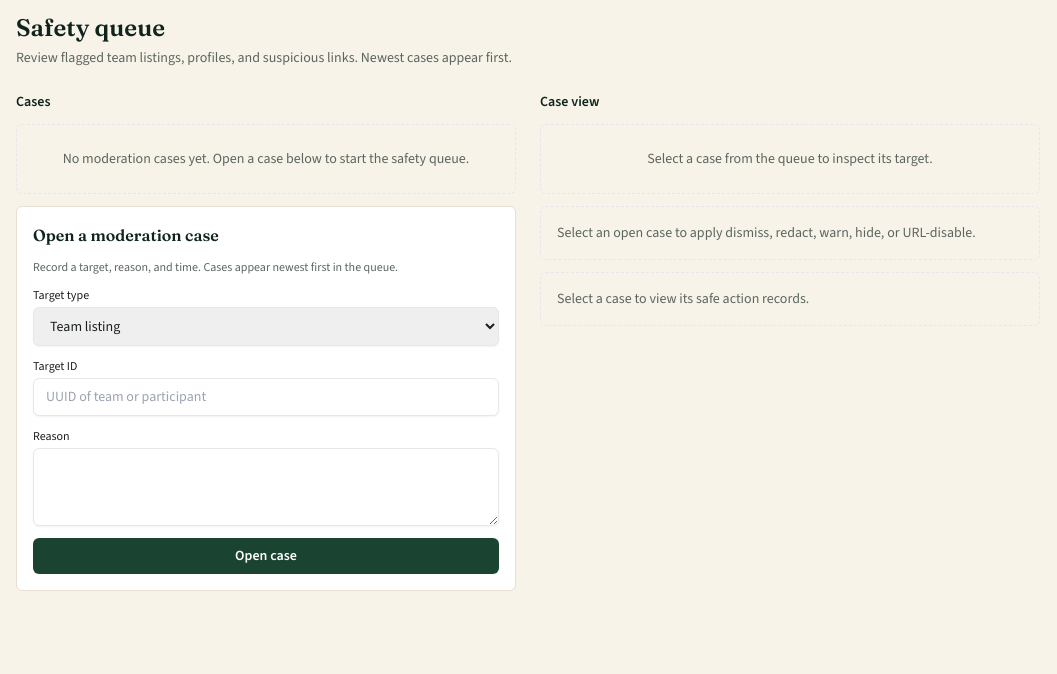
Scenario: ModerationSafetyPage (US-026 / #241) › keeps form draft when create returns validation errors
This screenshot has width=1057, height=674.
Expected: the form with test id "open-moderation-case-form" is shown, x1=16 y1=206 x2=516 y2=591
Type "cccccccc-cccc-4ccc-8ccc-cccccccccccc" into the field with test id "moderation-target-id" at [266, 397], box x1=33 y1=378 x2=499 y2=416
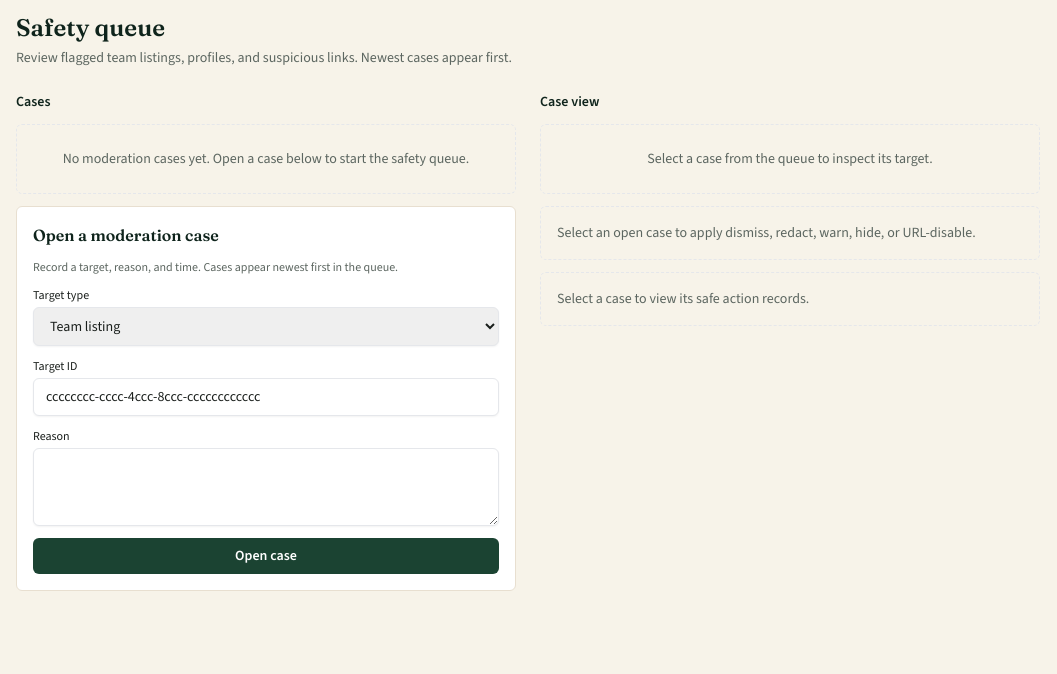
Type "kept draft reason" into the text box with test id "moderation-reason" at [266, 487], box x1=33 y1=448 x2=499 y2=526
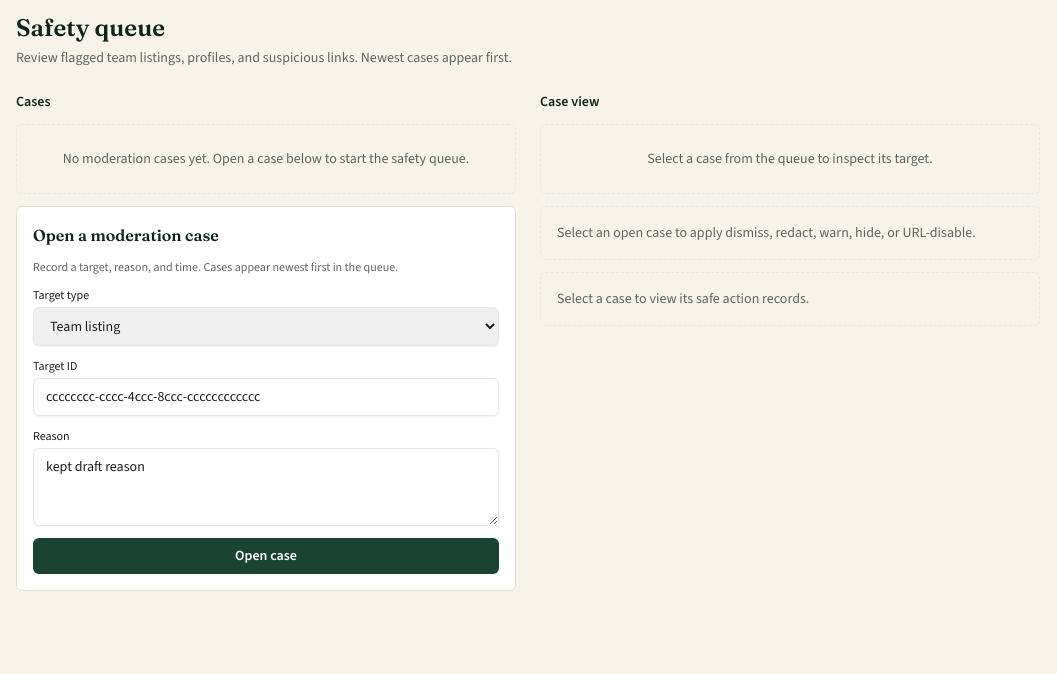
Click the button with test id "open-case-submit" at [266, 556], box x1=33 y1=538 x2=499 y2=574
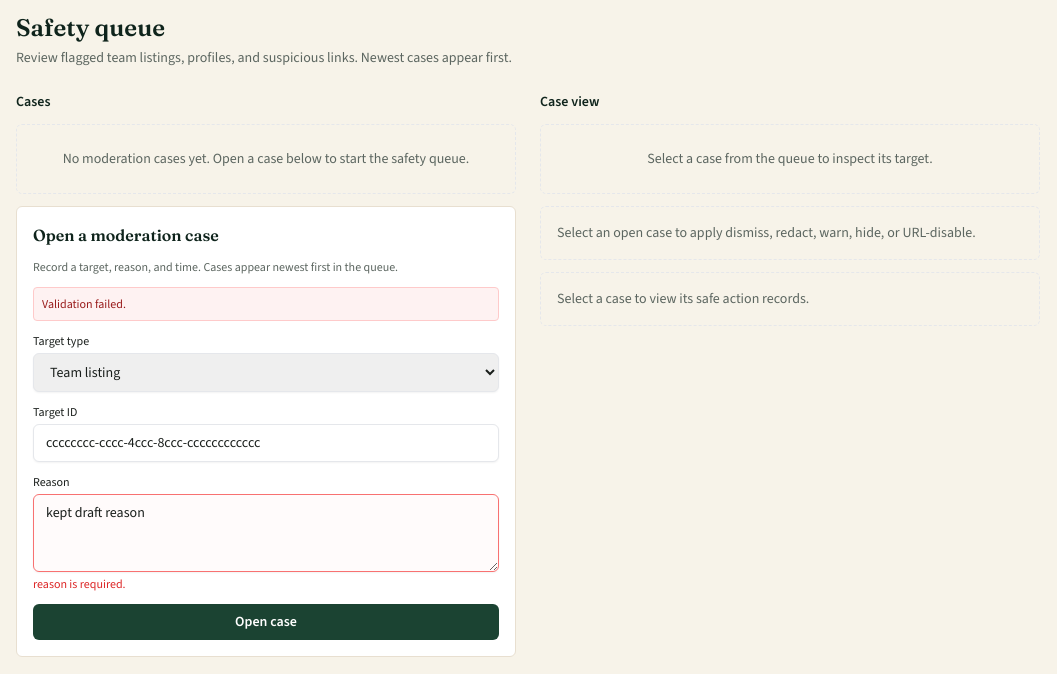
Expected: the message "Validation failed." is shown, x1=33 y1=287 x2=499 y2=321
